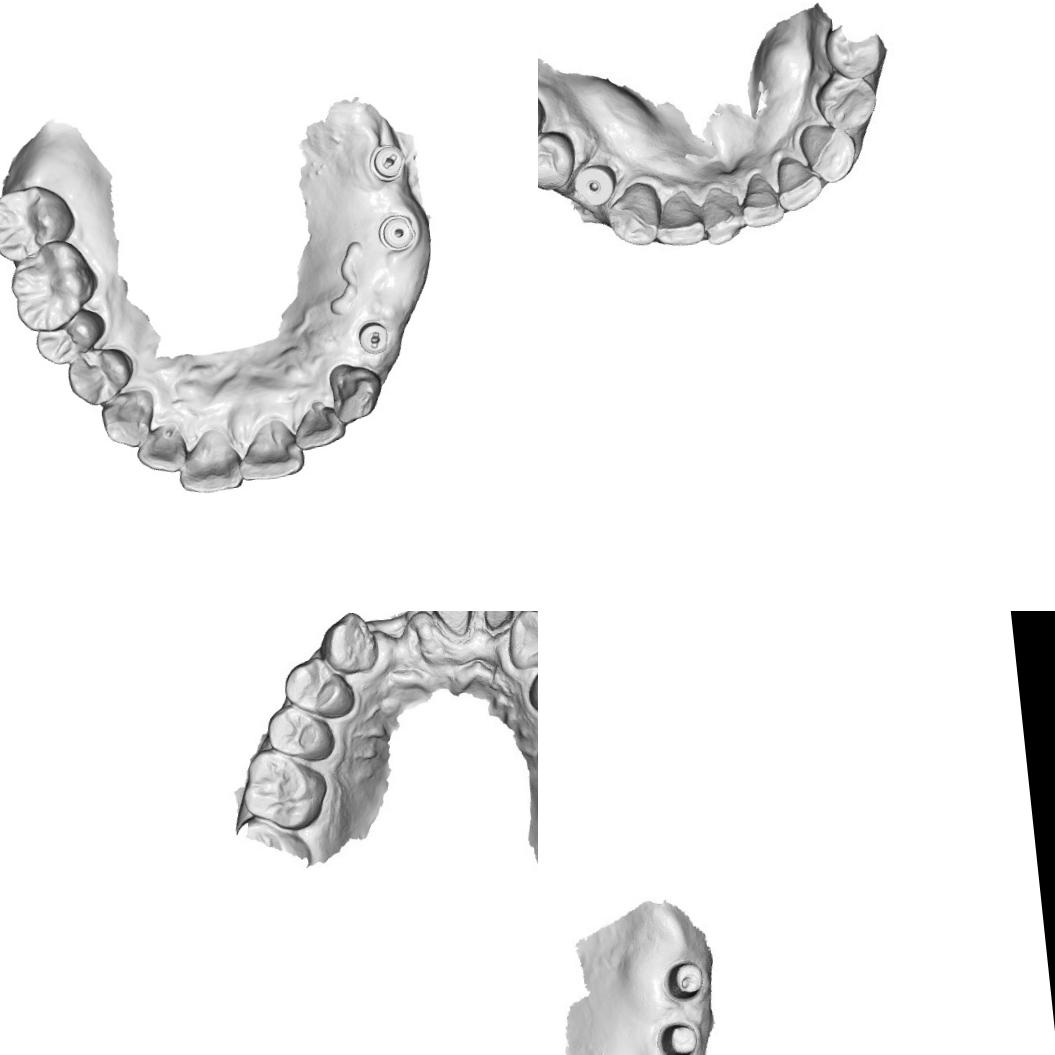abutment: (663, 957, 709, 1004), (654, 1016, 705, 1055)
canine: (601, 174, 666, 252), (796, 120, 862, 188), (318, 611, 382, 678), (325, 358, 388, 426), (98, 386, 159, 450), (501, 611, 538, 671)
crown: (426, 611, 477, 643), (477, 611, 522, 637)
implant: (374, 210, 420, 255), (572, 162, 616, 209)
implant_minus: (365, 141, 408, 186), (353, 317, 391, 357)
incisor: (173, 424, 248, 496), (235, 416, 307, 482), (652, 194, 710, 254), (736, 166, 787, 234), (132, 420, 190, 476), (290, 396, 348, 452), (771, 156, 824, 212), (702, 190, 750, 250)
molar: (6, 236, 102, 336), (237, 742, 334, 835), (0, 180, 79, 264)
premolar: (280, 654, 360, 724), (31, 306, 109, 368), (260, 701, 334, 766), (64, 344, 138, 408), (816, 73, 882, 139), (827, 19, 884, 78), (538, 128, 587, 192), (521, 648, 538, 714)
